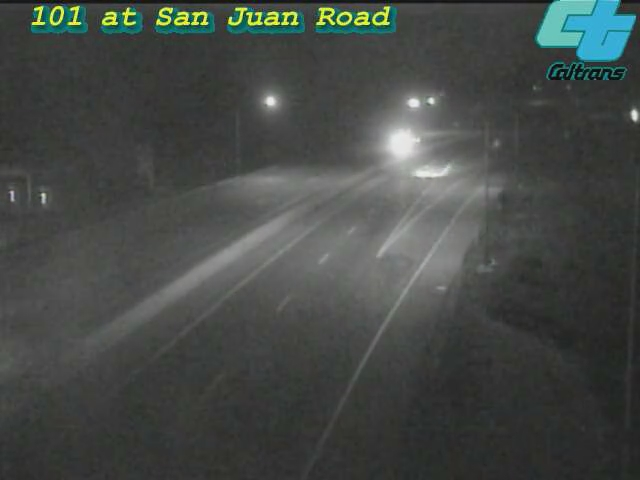vehicle: (381, 134, 461, 214), (374, 118, 424, 168)
